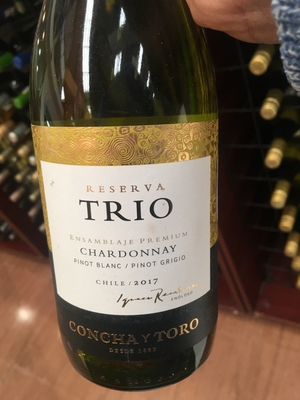trio chardonnay: (23, 21, 235, 391)
